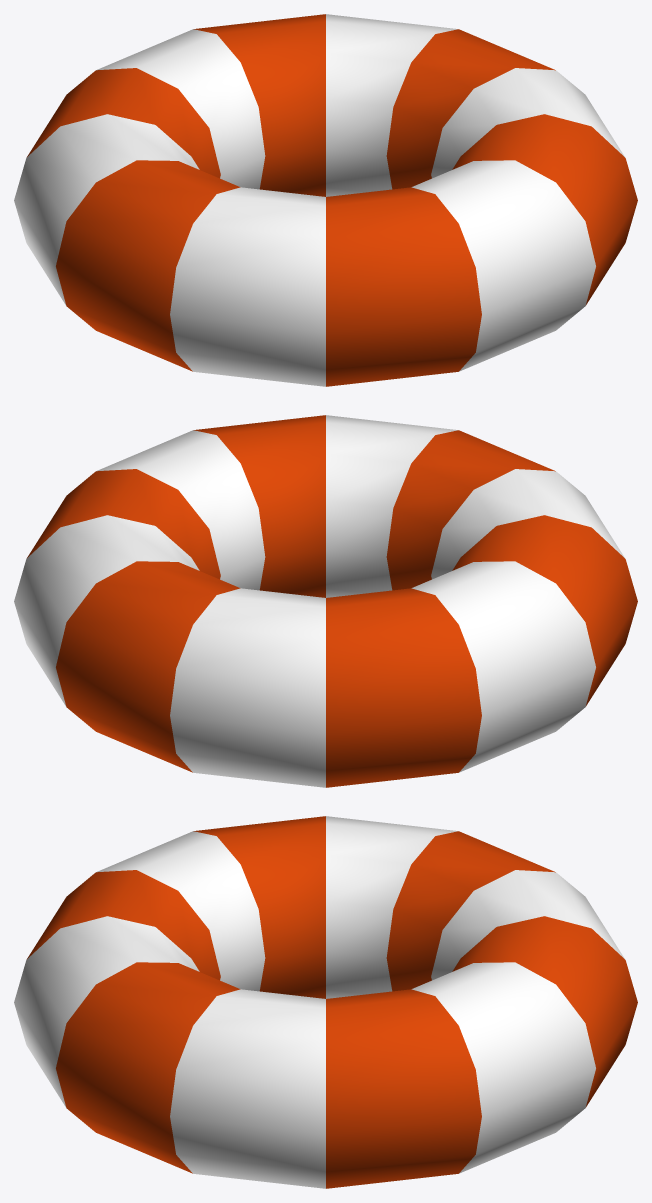
File: Life Ring_2.fbx
3 views of the same model, one above another, from view 1: azimuth 30°, elevation 25°; view 2: azimuth 150°, elevation 25°; view 3: azimuth 270°, elevation 25° (orthographic).
Parts seen in each view (by area): view 1: Life Ring_2; view 2: Life Ring_2; view 3: Life Ring_2.
Part boxes in pixels (x1,y1,x2,y2): Life Ring_2: [14, 14, 637, 386]; Life Ring_2: [14, 415, 637, 787]; Life Ring_2: [14, 816, 637, 1188].
Bounding box in the file's own units: 0.5807 × 0.1773 × 0.5807.
